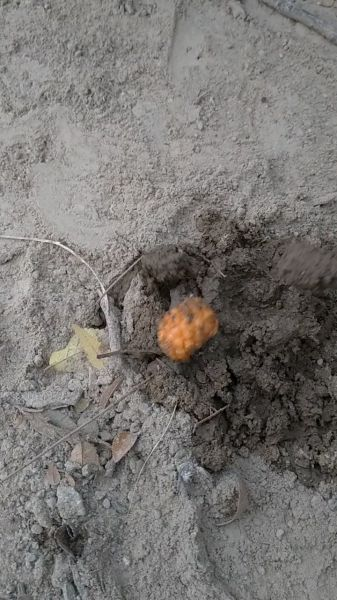eggs: (150, 293, 220, 362)
